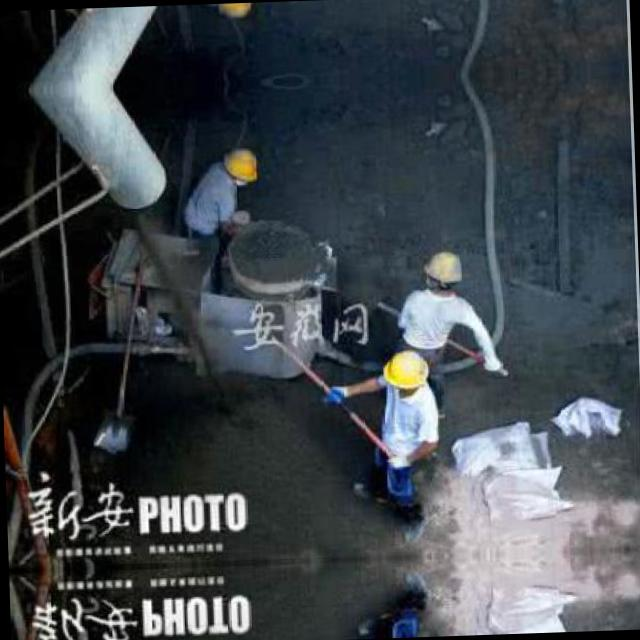helmet: (378, 346, 432, 400), (422, 243, 464, 295), (217, 144, 261, 186), (212, 2, 257, 22)
